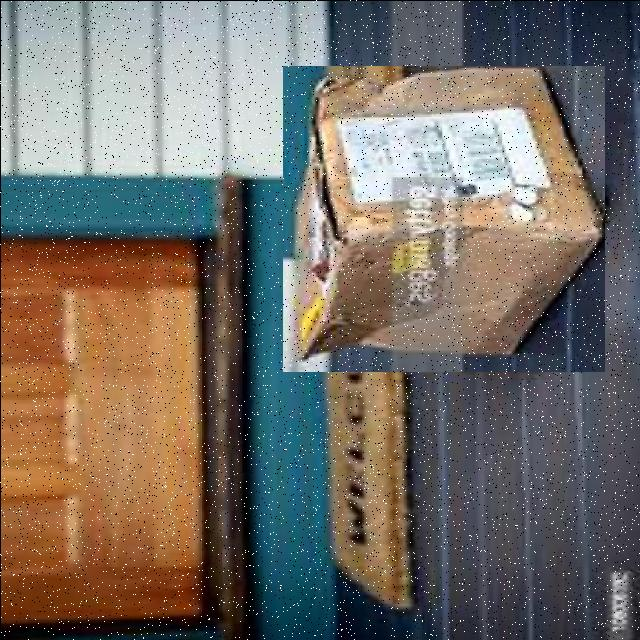defect: (282, 64, 604, 370)
